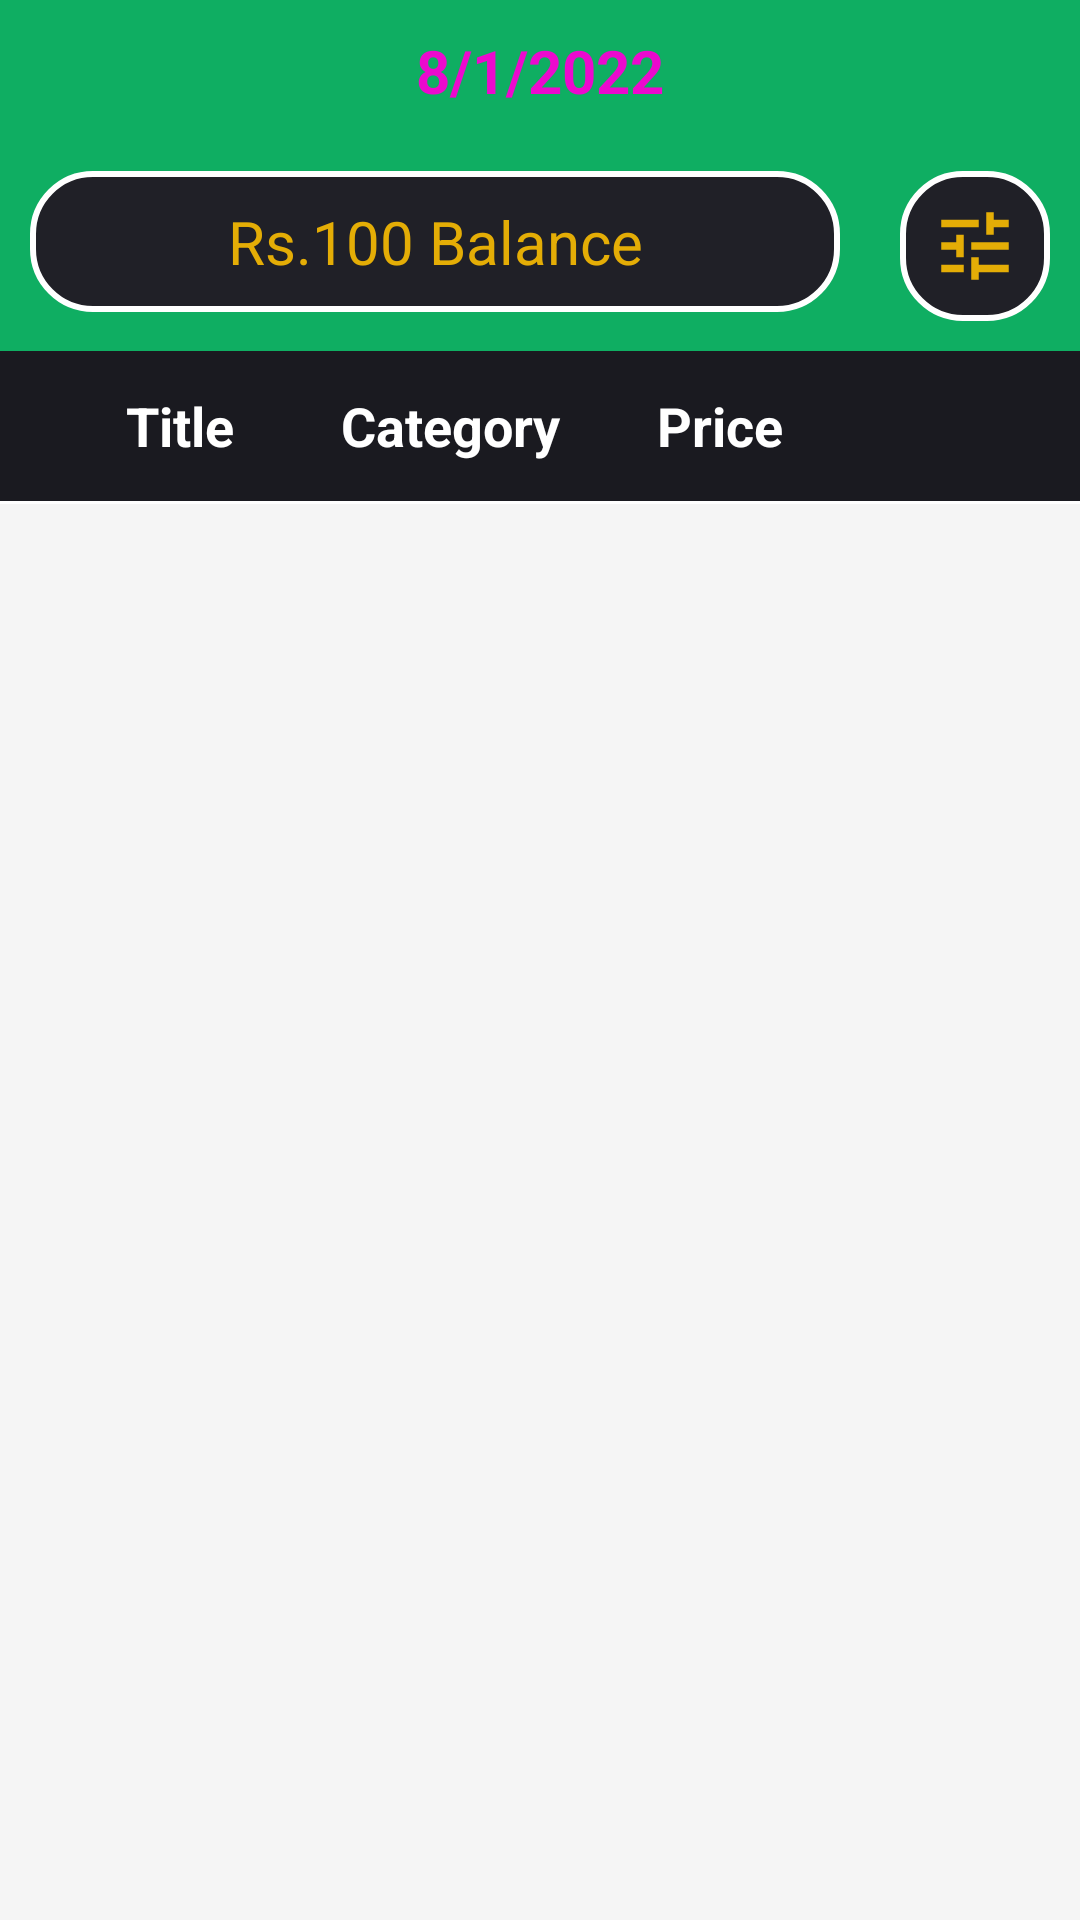

Named icons in this screenshot (1080w x 1920h) and their bounding boxes, (x1, y1, x2, y2):
filter: (900, 171, 1050, 321)
